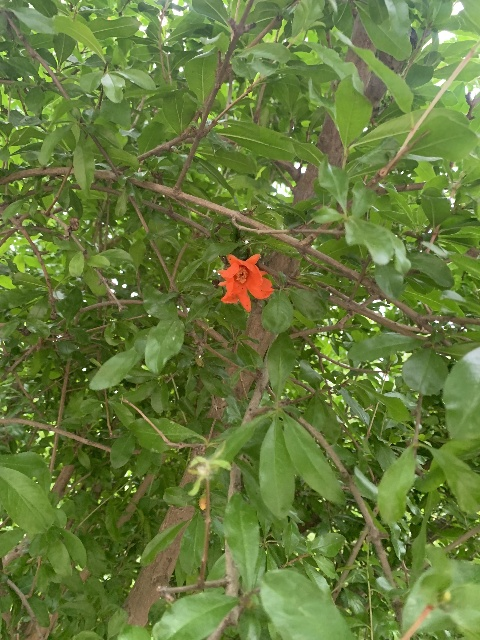flower: (215, 253, 273, 312)
